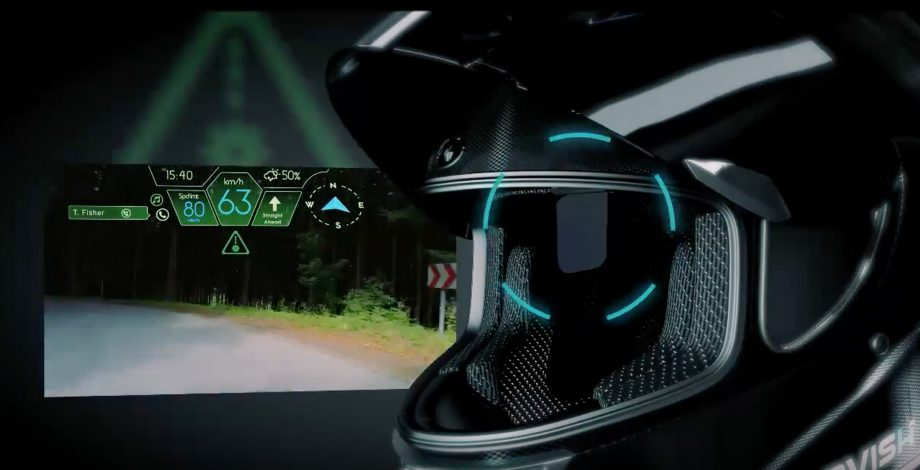with_helmet: (319, 1, 914, 470)
